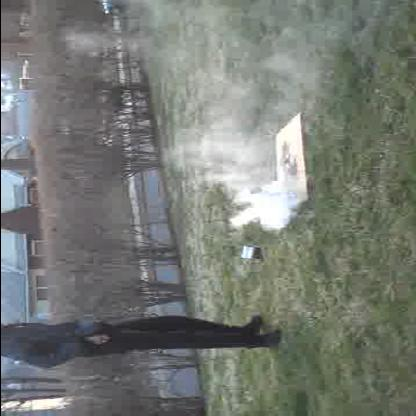Smoke: (178, 55, 288, 225)
